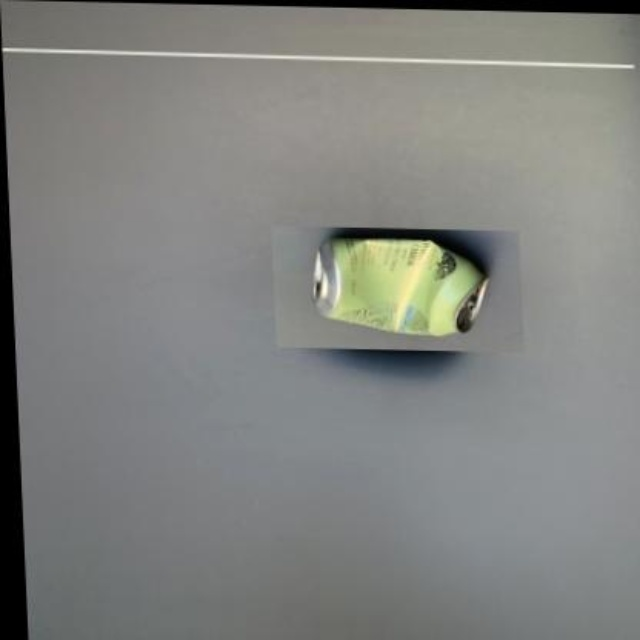trash: (312, 237, 486, 334)
